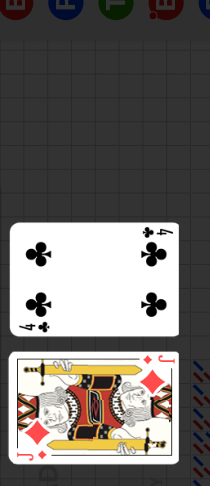4C: (140, 226, 175, 240), (18, 319, 52, 333)
